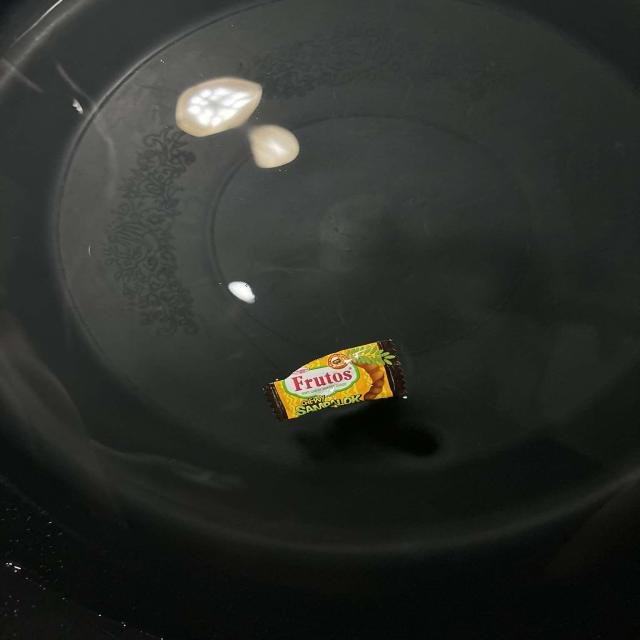Plastic Wrapper: (265, 341, 405, 420)
